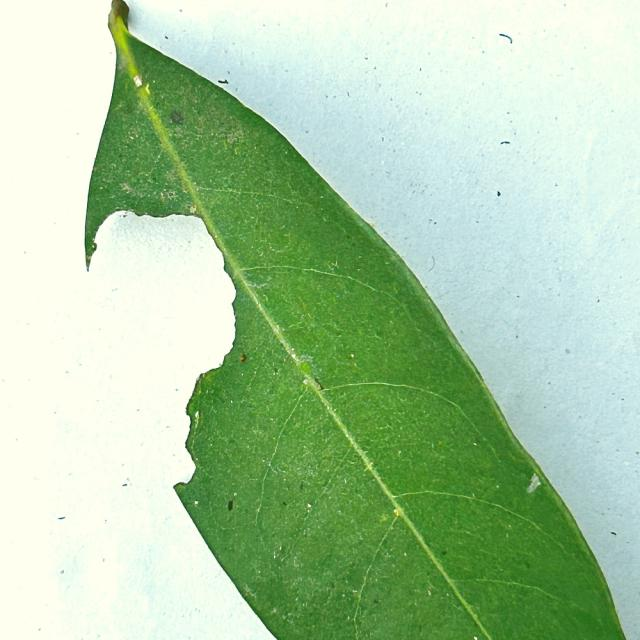Deficiency Leaf: (76, 214, 235, 492)
Lychee: (86, 4, 624, 639)
